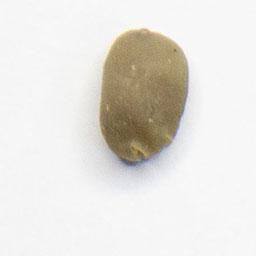peaberry: (95, 24, 192, 166)
